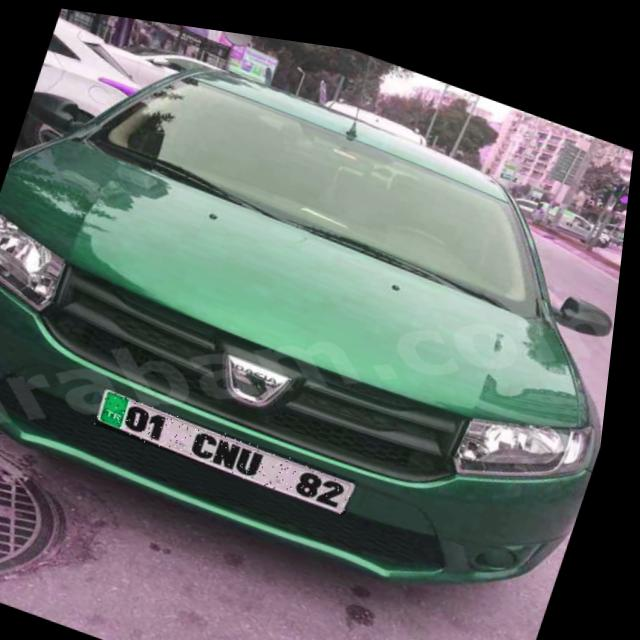license_plate: (98, 384, 370, 504)
